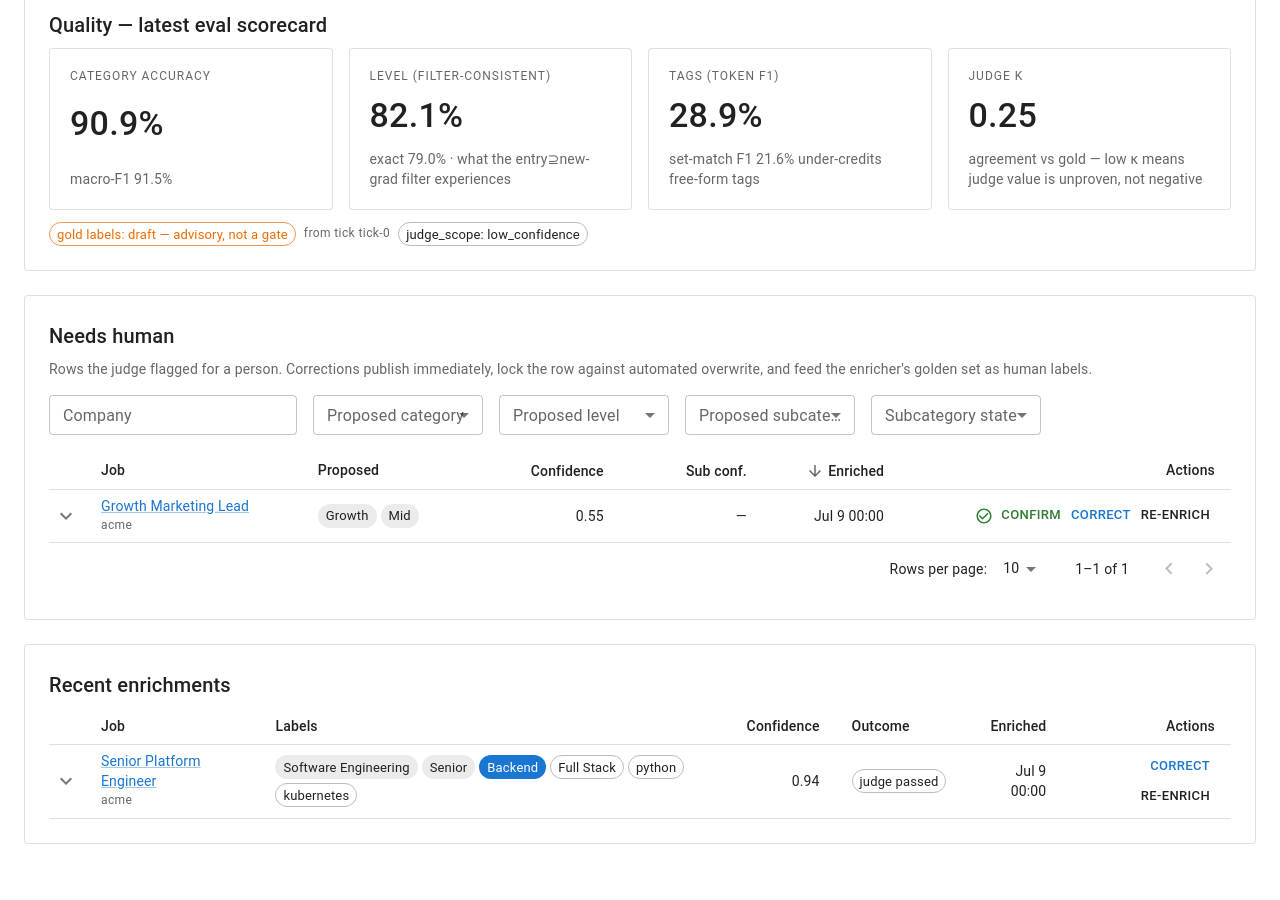
it: AdminEnrichmentPage › expands a recent row to reveal the judge notes and classifier reasoning
(page scrolled)
Click the button named "Expand reasoning". click: {"x": 66, "y": 781}
box: [49,764,83,798]
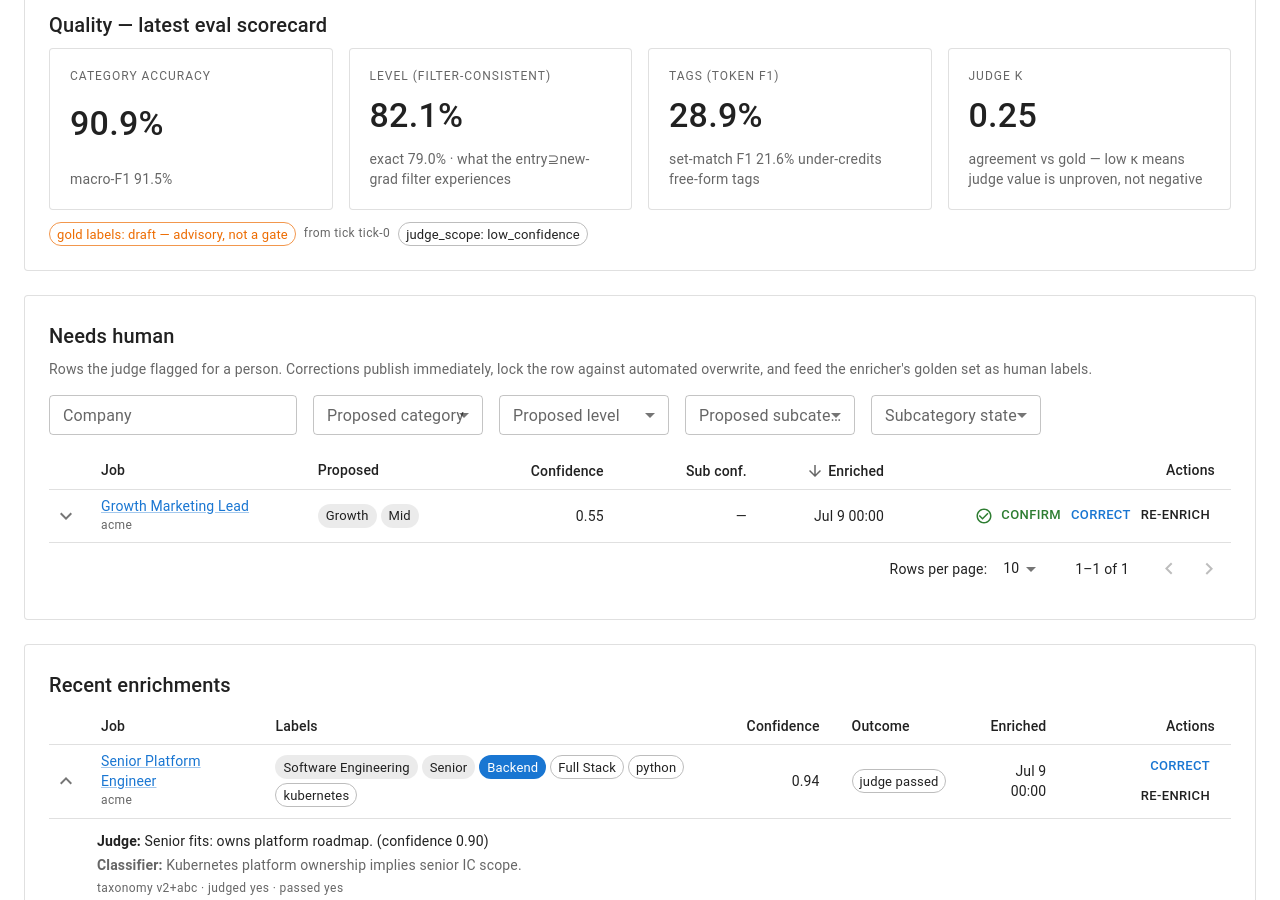
Expected: the text "Kubernetes platform ownership implies senior IC scope" is shown, [166,857,522,873]
Expected: the text "Judge: Senior fits: owns platform roadmap. (confidence 0.90)" is shown, [97,833,489,849]
